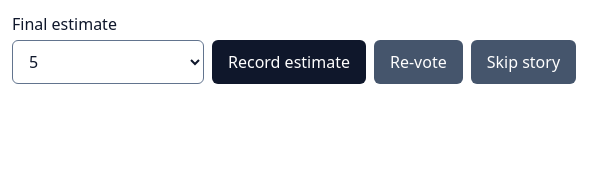
Test: FacilitatorControls › shows the generic message and re-enables the controls when the request rejects
This screenshot has width=593, height=172.
Click the button "Skip story".
click(523, 62)  # box [471,40,576,84]
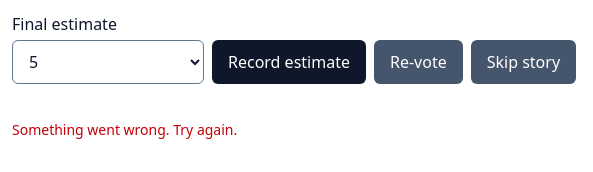
Now the message "Something went wrong. Try again." is shown, box [12,120,237,139]
